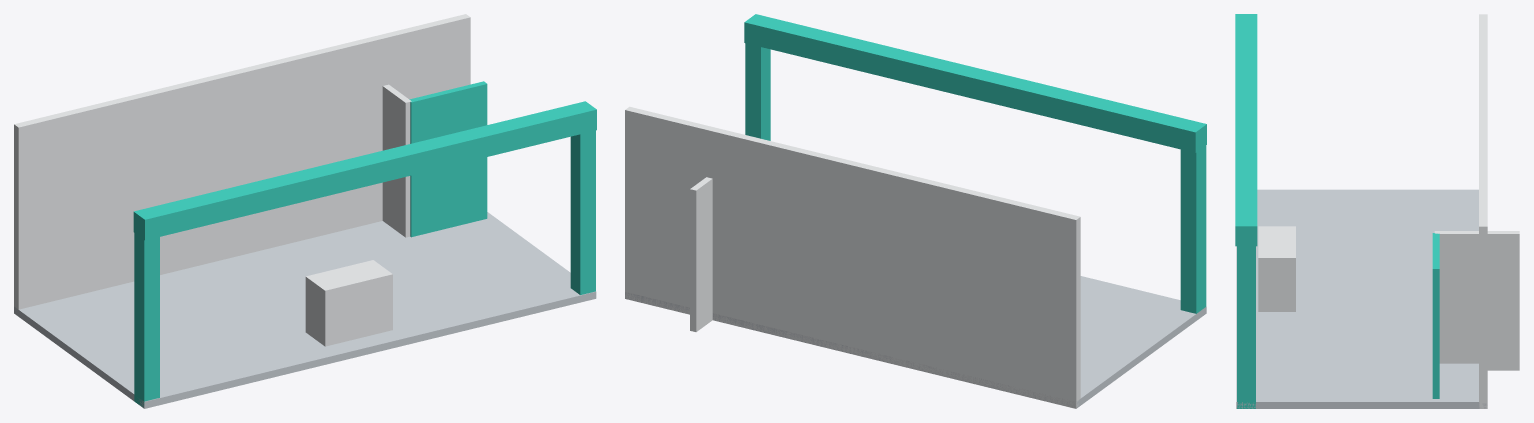
3 renders of one model, left to right at view 1: azimuth 30°, elevation 25°; view 2: azimuth 150°, elevation 25°; view 3: azimuth 270°, elevation 25°, orthographic. The views are drawn at different scales.
Visible parts, largest first — view 1: Exhibition Booth Concept; view 2: Exhibition Booth Concept; view 3: Exhibition Booth Concept.
Boxes of the visible parts, bbox=[...] form: Exhibition Booth Concept: bbox=[14, 14, 596, 408]; Exhibition Booth Concept: bbox=[625, 14, 1206, 408]; Exhibition Booth Concept: bbox=[1235, 14, 1519, 408].
Bounding box in the file's own units: 8 × 3.2 × 4.52.
